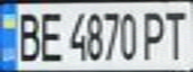0: (118, 8, 142, 61)
4: (63, 7, 87, 62)
7: (103, 8, 121, 61)
8: (84, 8, 106, 62)
B: (9, 7, 42, 63)
E: (36, 7, 63, 63)
P: (139, 7, 172, 61)
T: (160, 6, 193, 62)
